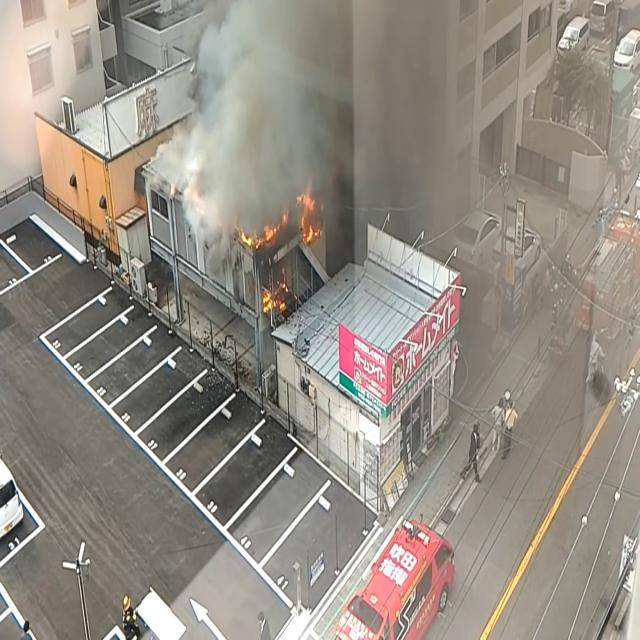Fire: (252, 273, 290, 331), (295, 185, 324, 248), (235, 218, 277, 254)
Smoke: (164, 0, 354, 247)
